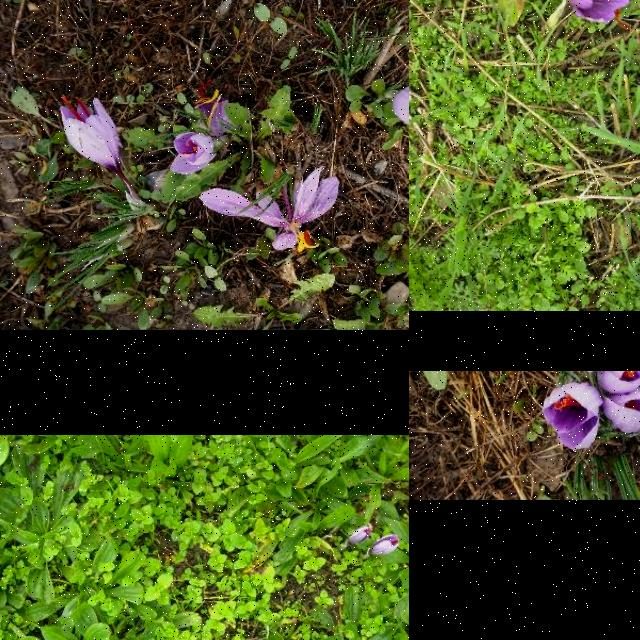flower: (60, 94, 124, 174), (543, 382, 605, 452), (602, 375, 640, 435), (170, 130, 218, 176), (558, 0, 631, 29), (596, 371, 640, 394), (392, 83, 409, 135), (372, 534, 400, 558), (351, 525, 374, 545)
